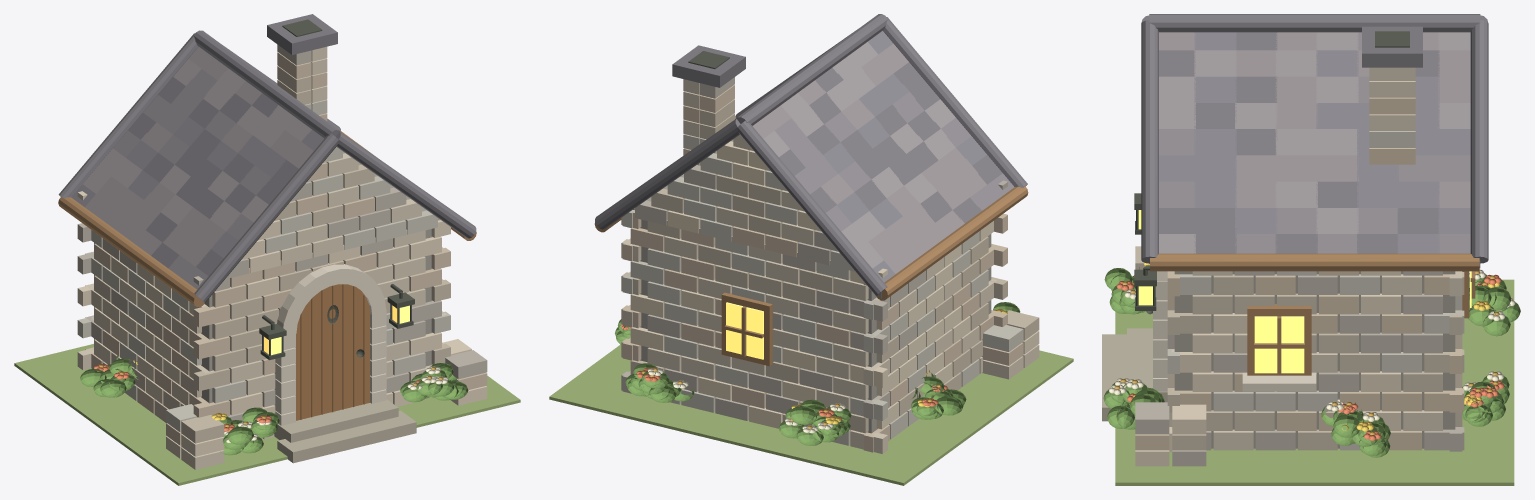
The model's file is system_house.glb.
The picture shows the model from 3 angles, left to right: view 1: azimuth 30°, elevation 25°; view 2: azimuth 150°, elevation 25°; view 3: azimuth 270°, elevation 25°; orthographic projection. The views are drawn at different scales.
Visible parts, largest first — view 1: Static house 17|NORMAL,POSITION, Static house 12|NORMAL,POSITION,TEXCOORD_0, Static house 25|NORMAL,POSITION,TEXCOORD_0, Static house 16|NORMAL,POSITION,TEXCOORD_0, Static house 11|NORMAL,POSITION,TEXCOORD_0, Static house 14|NORMAL,POSITION,TEXCOORD_0, Static house 15|NORMAL,POSITION,TEXCOORD_0, Arched wooden door, Static house 19|NORMAL,POSITION, Static house 13|NORMAL,POSITION,TEXCOORD_0, Static house 21|NORMAL,POSITION, Static house 3|NORMAL,POSITION,TEXCOORD_0 (+9 smaller); view 2: Static house 17|NORMAL,POSITION, Static house 25|NORMAL,POSITION,TEXCOORD_0, Static house 15|NORMAL,POSITION,TEXCOORD_0, Static house 12|NORMAL,POSITION,TEXCOORD_0, Static house 11|NORMAL,POSITION,TEXCOORD_0, Static house 14|NORMAL,POSITION,TEXCOORD_0, Static house 16|NORMAL,POSITION,TEXCOORD_0, Static house 13|NORMAL,POSITION,TEXCOORD_0, Static house 19|NORMAL,POSITION, Static house 21|NORMAL,POSITION, Static house 28|NORMAL,POSITION, Static house 18|NORMAL,POSITION (+7 smaller); view 3: Static house 17|NORMAL,POSITION, Static house 25|NORMAL,POSITION,TEXCOORD_0, Static house 20|NORMAL,POSITION, Static house 21|NORMAL,POSITION, Static house 19|NORMAL,POSITION, Static house 16|NORMAL,POSITION,TEXCOORD_0, Static house 11|NORMAL,POSITION,TEXCOORD_0, Static house 13|NORMAL,POSITION,TEXCOORD_0, Static house 18|NORMAL,POSITION, Static house 28|NORMAL,POSITION, Static house 14|NORMAL,POSITION,TEXCOORD_0, Static house 15|NORMAL,POSITION,TEXCOORD_0 (+13 smaller).
Boxes of the visible parts, <box> form: Static house 17|NORMAL,POSITION: <box>58,30,476,302</box>; Static house 12|NORMAL,POSITION,TEXCOORD_0: <box>77,46,431,469</box>; Static house 25|NORMAL,POSITION,TEXCOORD_0: <box>14,344,520,485</box>; Static house 16|NORMAL,POSITION,TEXCOORD_0: <box>85,52,487,445</box>; Static house 11|NORMAL,POSITION,TEXCOORD_0: <box>94,66,450,443</box>; Static house 14|NORMAL,POSITION,TEXCOORD_0: <box>77,191,487,456</box>; Static house 15|NORMAL,POSITION,TEXCOORD_0: <box>77,99,450,432</box>; Arched wooden door: <box>295,284,369,420</box>; Static house 19|NORMAL,POSITION: <box>85,46,313,267</box>; Static house 13|NORMAL,POSITION,TEXCOORD_0: <box>77,44,487,420</box>; Static house 21|NORMAL,POSITION: <box>83,59,311,231</box>; Static house 3|NORMAL,POSITION,TEXCOORD_0: <box>274,399,416,463</box>; Static house 17|NORMAL,POSITION: <box>595,14,1027,296</box>; Static house 25|NORMAL,POSITION,TEXCOORD_0: <box>549,344,1073,485</box>; Static house 15|NORMAL,POSITION,TEXCOORD_0: <box>622,134,1023,445</box>; Static house 12|NORMAL,POSITION,TEXCOORD_0: <box>621,79,1039,453</box>; Static house 11|NORMAL,POSITION,TEXCOORD_0: <box>621,99,1039,433</box>; Static house 14|NORMAL,POSITION,TEXCOORD_0: <box>630,141,1039,429</box>; Static house 16|NORMAL,POSITION,TEXCOORD_0: <box>621,85,1023,452</box>; Static house 13|NORMAL,POSITION,TEXCOORD_0: <box>621,77,1007,420</box>; Static house 19|NORMAL,POSITION: <box>753,43,986,273</box>; Static house 21|NORMAL,POSITION: <box>763,42,955,268</box>; Static house 28|NORMAL,POSITION: <box>615,302,1020,445</box>; Static house 18|NORMAL,POSITION: <box>600,91,1014,231</box>; Static house 17|NORMAL,POSITION: <box>1141,14,1488,263</box>; Static house 25|NORMAL,POSITION,TEXCOORD_0: <box>1115,279,1514,485</box>; Static house 20|NORMAL,POSITION: <box>1159,32,1470,253</box>; Static house 21|NORMAL,POSITION: <box>1159,32,1470,253</box>; Static house 19|NORMAL,POSITION: <box>1159,32,1470,207</box>; Static house 16|NORMAL,POSITION,TEXCOORD_0: <box>1135,97,1464,450</box>; Static house 11|NORMAL,POSITION,TEXCOORD_0: <box>1135,246,1464,450</box>; Static house 13|NORMAL,POSITION,TEXCOORD_0: <box>1135,271,1464,466</box>; Static house 18|NORMAL,POSITION: <box>1159,32,1480,267</box>; Static house 28|NORMAL,POSITION: <box>1103,267,1520,457</box>; Static house 14|NORMAL,POSITION,TEXCOORD_0: <box>1135,271,1462,466</box>; Static house 15|NORMAL,POSITION,TEXCOORD_0: <box>1167,131,1464,450</box>.
Bounding box in the file's own units: 6.5 × 5.75 × 5.67.
